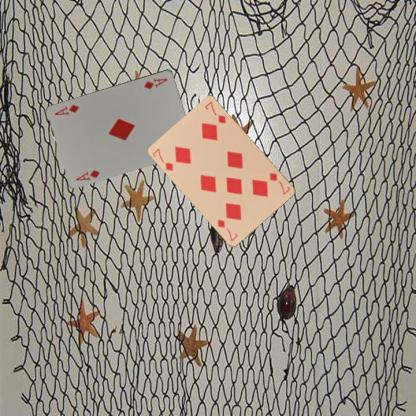7d: (267, 170, 292, 196), (150, 146, 175, 172)
Ad: (73, 167, 101, 181), (142, 76, 168, 90)
